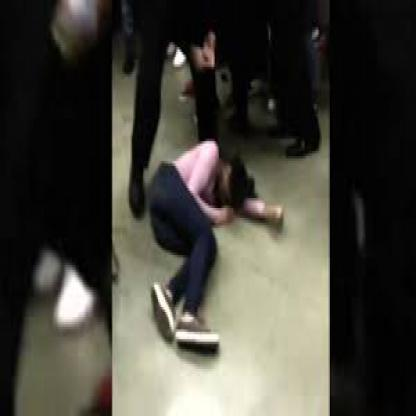Fall_Down: (151, 134, 286, 358)
